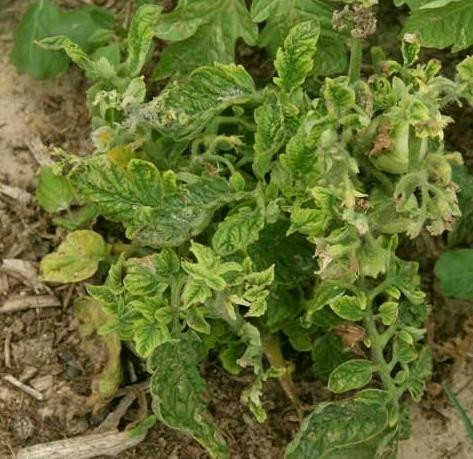Tomato leaf yellow virus: (59, 158, 187, 234), (163, 65, 259, 149), (147, 366, 218, 459), (274, 126, 332, 199), (209, 205, 271, 257), (279, 22, 319, 99), (321, 356, 383, 404), (129, 312, 177, 364), (286, 214, 340, 243), (326, 296, 372, 325), (378, 296, 407, 326), (183, 277, 209, 310)
